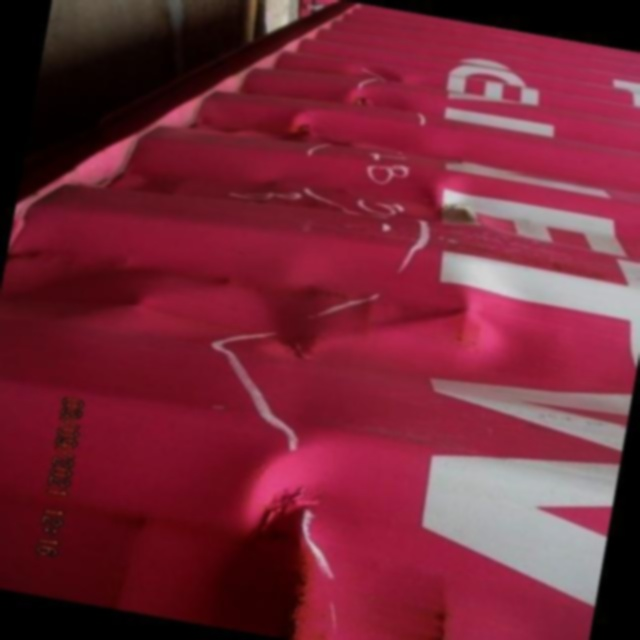Dent: (141, 36, 554, 640)
